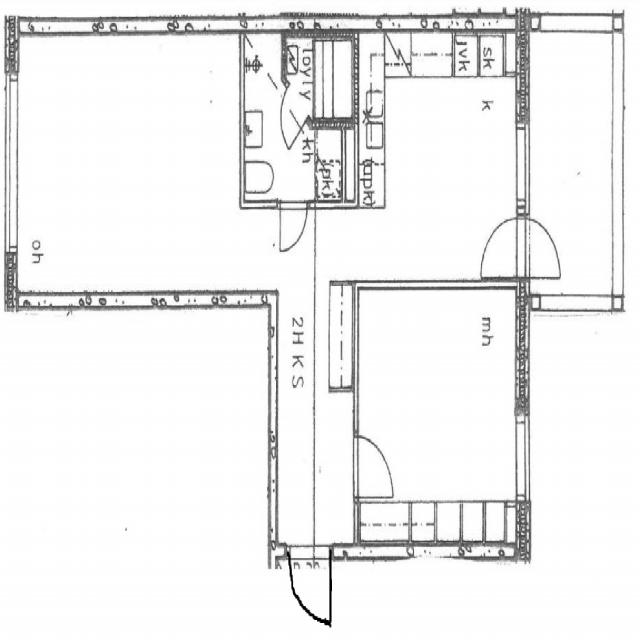door: (289, 544, 330, 630), (284, 87, 326, 159), (484, 219, 530, 277), (517, 219, 563, 277), (353, 436, 393, 497), (280, 200, 306, 255)
